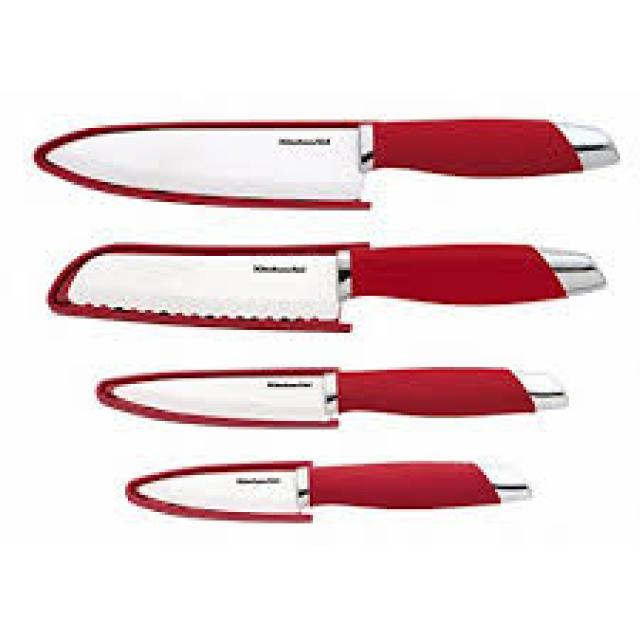Knife: (31, 114, 620, 208), (45, 239, 606, 333), (94, 364, 569, 427), (122, 458, 532, 523)
